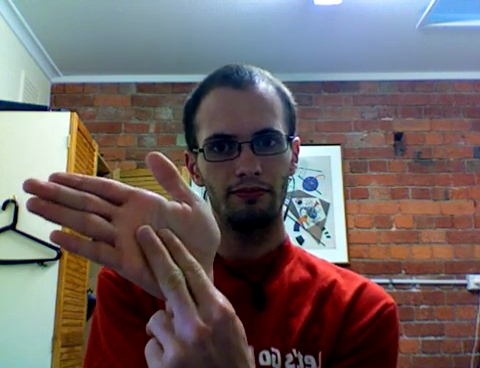N: (16, 145, 264, 368)
